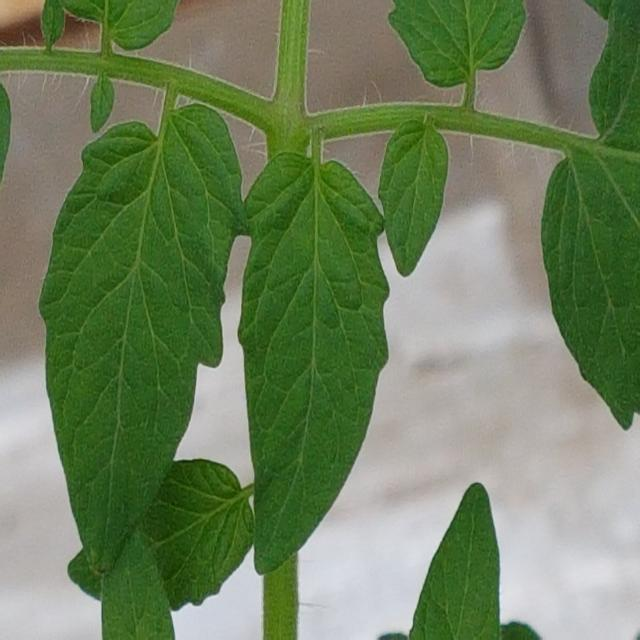Healthy Leaf: (41, 105, 245, 572), (240, 157, 392, 574), (542, 1, 640, 430), (68, 459, 254, 611), (408, 480, 502, 640), (392, 1, 526, 87), (379, 120, 449, 278)
